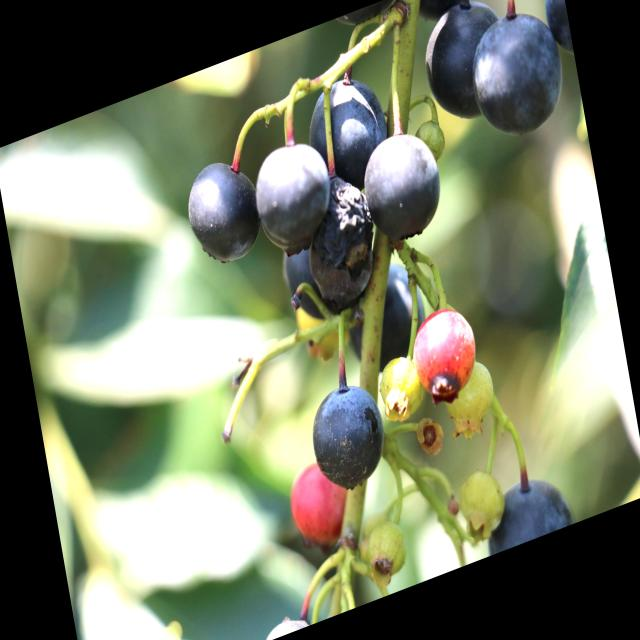blueberry: (457, 0, 574, 160), (288, 55, 402, 217), (323, 238, 442, 391), (244, 122, 347, 274), (350, 115, 456, 262), (410, 0, 519, 141), (299, 363, 399, 507), (176, 142, 271, 286), (294, 152, 386, 296), (470, 455, 582, 559), (300, 214, 392, 322), (274, 232, 336, 334), (529, 0, 576, 76), (405, 0, 481, 37)
blueberry-halfripe: (406, 297, 484, 412), (286, 458, 351, 550)
blueberry-unripe: (438, 352, 503, 436), (451, 462, 511, 550), (377, 347, 428, 430), (362, 511, 412, 584)
